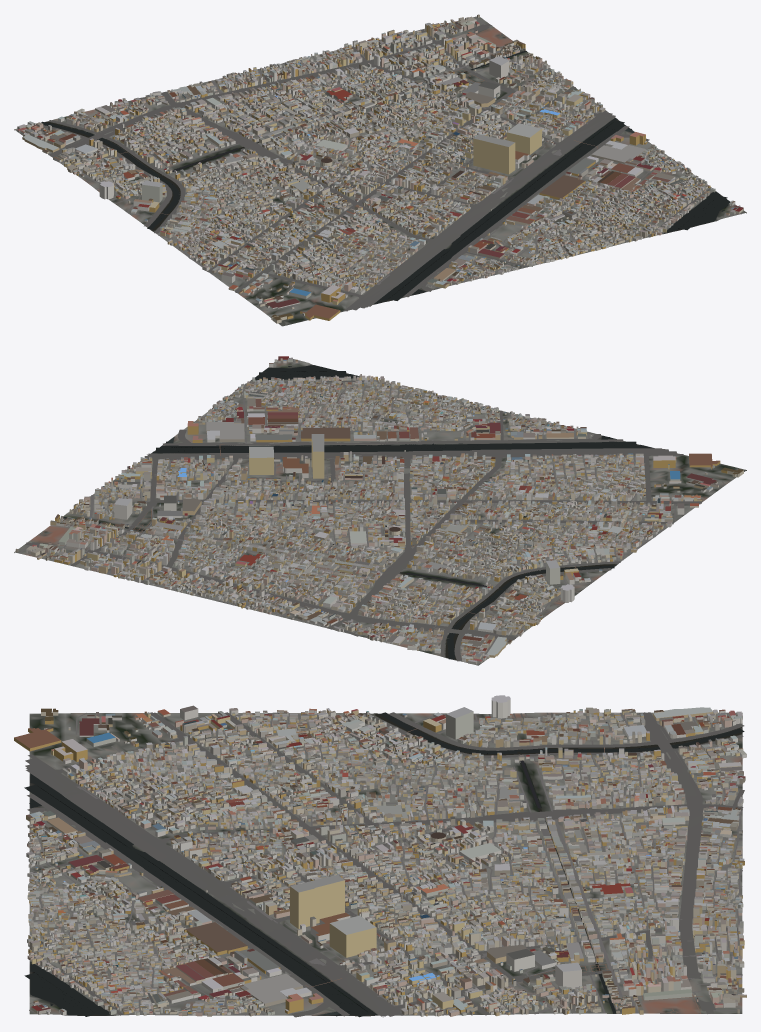
3 views of the same model, one above another, from view 1: azimuth 30°, elevation 25°; view 2: azimuth 150°, elevation 25°; view 3: azimuth 270°, elevation 25° (orthographic). The views are drawn at different scales.
Parts seen in each view (by area): view 1: buildings, ground, roads, water; view 2: buildings, ground, roads, water; view 3: buildings, ground, roads, water.
Boxes of the visible parts, left/top/right/bottom form: buildings: left=17, top=14, right=743, bottom=323; ground: left=14, top=16, right=746, bottom=326; roads: left=19, top=17, right=741, bottom=311; water: left=41, top=50, right=729, bottom=304; buildings: left=15, top=356, right=743, bottom=664; ground: left=14, top=359, right=746, bottom=665; roads: left=19, top=358, right=725, bottom=662; water: left=63, top=365, right=654, bottom=659; buildings: left=14, top=695, right=746, bottom=1016; ground: left=29, top=712, right=742, bottom=1016; roads: left=25, top=712, right=744, bottom=1017; water: left=24, top=712, right=744, bottom=1017.
Size of the model in its own units: 1422 by 87.76 by 1440.
